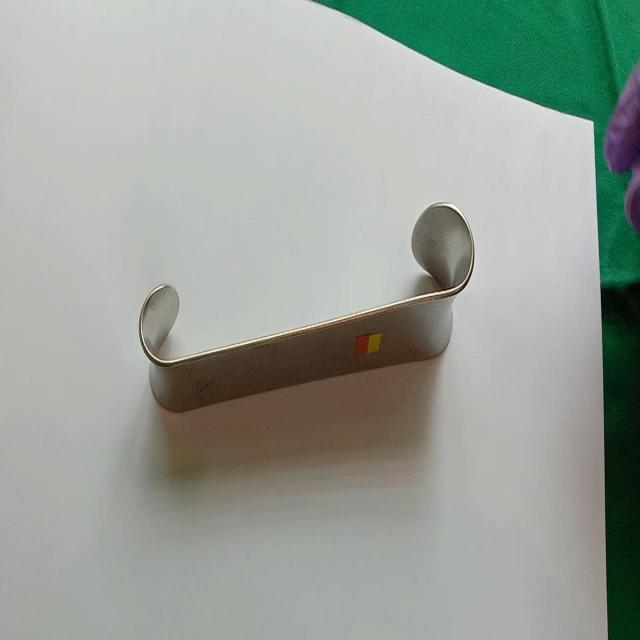CheekRetractor: (139, 200, 480, 416)
